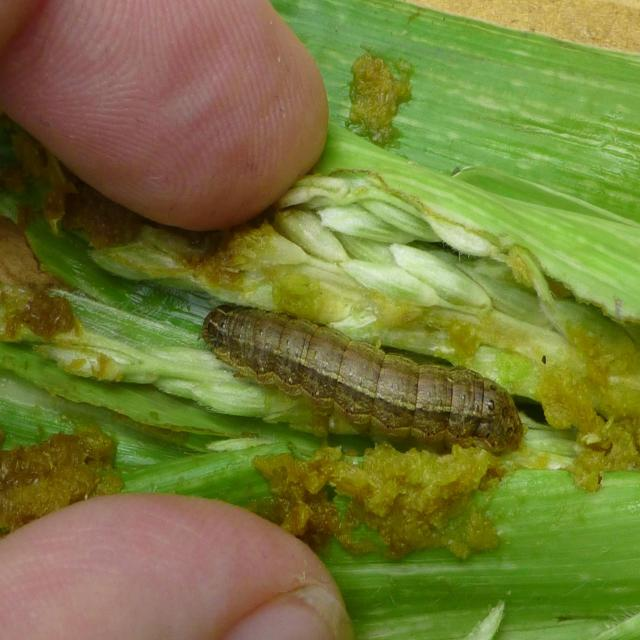army worm: (204, 298, 530, 471)
